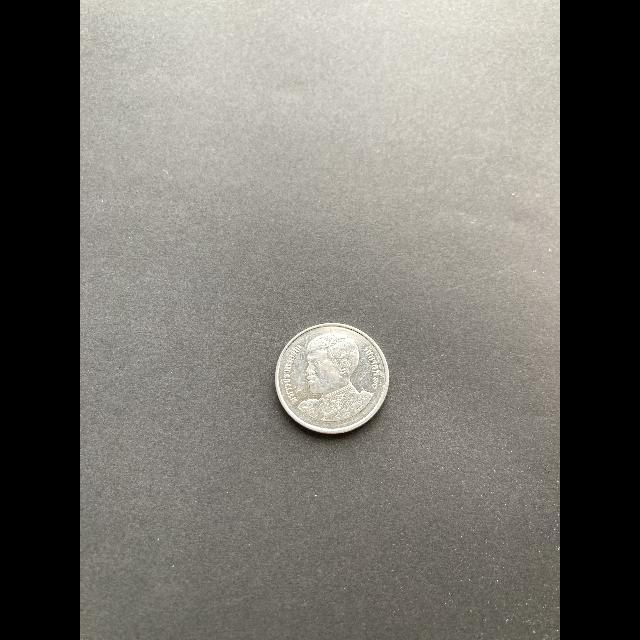1 Bath: (273, 319, 395, 444)
